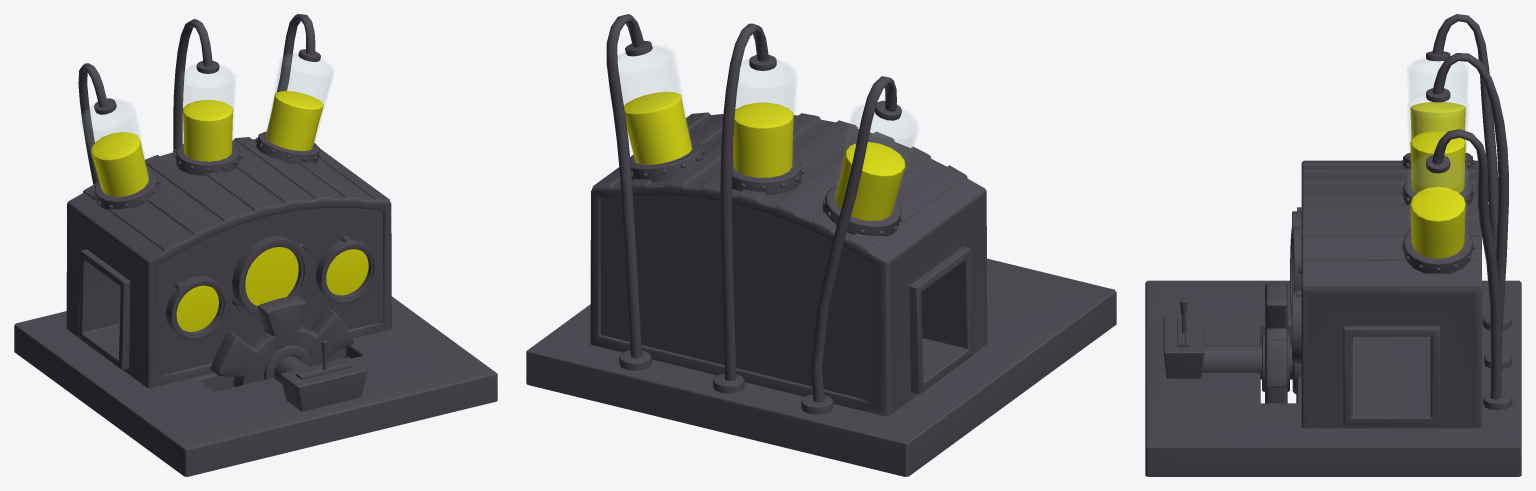
Rendered from hub_paint_machine.fbx.
3 renders of one model, left to right at view 1: azimuth 30°, elevation 25°; view 2: azimuth 150°, elevation 25°; view 3: azimuth 270°, elevation 25°, orthographic. The views are drawn at different scales.
Visible parts, largest first — view 1: paint_machine_chasis, floor_base, gear, lever_base, tube_1_paint, tube_2_paint, tube_3_paint, emission_screen_3, window_frame_2, tube_3, window_frame_3, window_frame_1 (+10 smaller); view 2: paint_machine_chasis, floor_base, tube_2_cable, tube_3_cable, tube_1_cable, tube_2_paint, tube_3_paint, tube_1_paint, tube_3, tube_2, tube_1, tube_1_base (+2 smaller); view 3: paint_machine_chasis, floor_base, tube_3_paint, tube_3_cable, tube_2_cable, gear, tube_1_cable, lever_base, tube_2_paint, tube_2, turnstile, tube_1_paint (+6 smaller).
Boxes of the visible parts, x1,y1,x2,y2 form: paint_machine_chasis: [66, 137, 391, 388]; floor_base: [14, 296, 497, 476]; gear: [210, 295, 353, 387]; lever_base: [280, 357, 367, 411]; tube_1_paint: [91, 132, 148, 196]; tube_2_paint: [182, 100, 233, 161]; tube_3_paint: [266, 91, 323, 150]; emission_screen_3: [245, 247, 298, 305]; window_frame_2: [232, 236, 309, 317]; tube_3: [275, 53, 332, 105]; window_frame_3: [315, 236, 378, 306]; window_frame_1: [166, 276, 228, 341]; paint_machine_chasis: [590, 112, 987, 416]; floor_base: [526, 258, 1116, 476]; tube_2_cable: [720, 23, 768, 381]; tube_3_cable: [606, 14, 644, 357]; tube_1_cable: [810, 76, 896, 402]; tube_2_paint: [733, 102, 793, 177]; tube_3_paint: [624, 91, 692, 164]; tube_1_paint: [835, 142, 905, 220]; tube_3: [618, 46, 680, 105]; tube_2: [735, 60, 795, 115]; tube_1: [845, 105, 916, 166]; tube_1_base: [822, 186, 902, 236]; paint_machine_chasis: [1292, 160, 1481, 428]; floor_base: [1145, 280, 1521, 476]; tube_3_paint: [1410, 186, 1465, 258]; tube_3_cable: [1432, 129, 1501, 399]; tube_2_cable: [1432, 53, 1508, 355]; gear: [1262, 282, 1289, 403]; tube_1_cable: [1432, 14, 1498, 254]; lever_base: [1163, 315, 1204, 378]; tube_2_paint: [1410, 130, 1465, 192]; tube_2: [1408, 93, 1467, 141]; turnstile: [1202, 345, 1292, 379]; tube_1_paint: [1410, 102, 1465, 139].
Size of the model in its own units: 1723 by 1912 by 1643.
